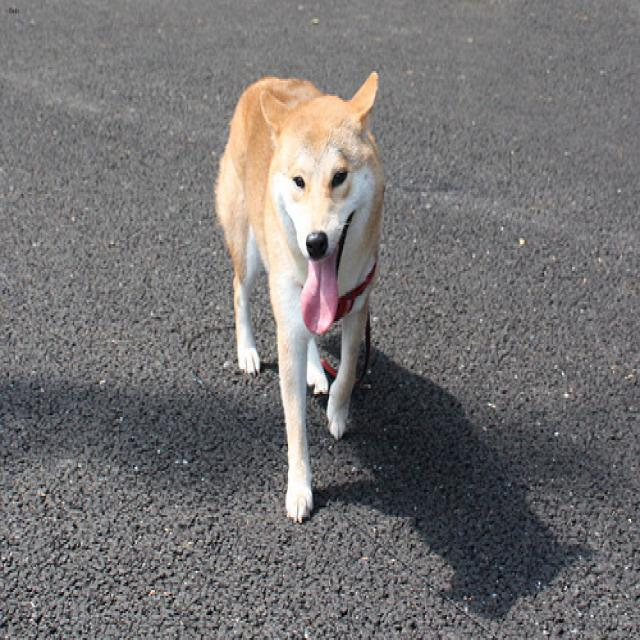dog-shiba_inu: (209, 65, 387, 529)
